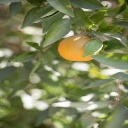orange: (56, 32, 103, 62)
